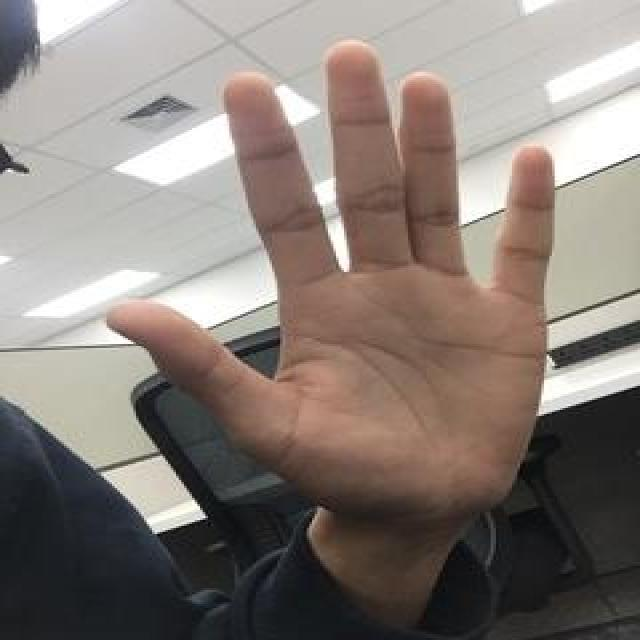no-gloves: (99, 37, 562, 525)
